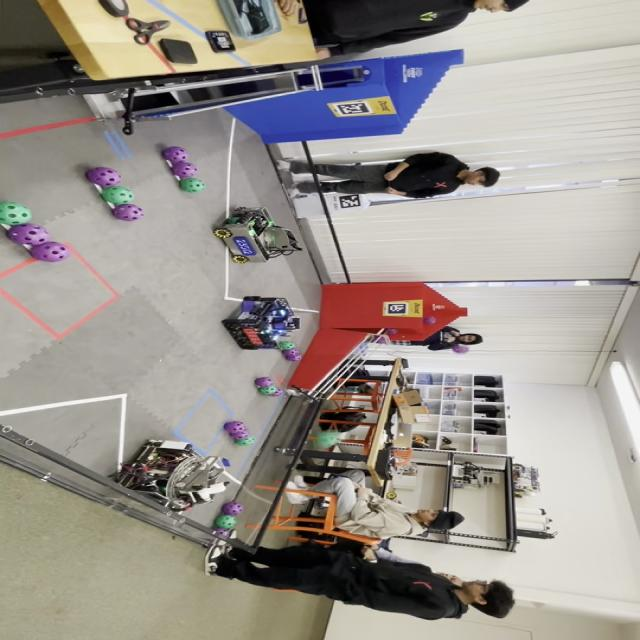artifact_green: (0, 202, 31, 225), (101, 186, 133, 205), (316, 432, 340, 448), (179, 178, 205, 192), (215, 515, 237, 529), (234, 436, 255, 445), (258, 386, 278, 395), (279, 341, 296, 350), (386, 492, 398, 499)
artifact_purple: (6, 224, 49, 245), (30, 242, 69, 261), (86, 167, 122, 187), (112, 204, 144, 221), (162, 146, 188, 163), (171, 162, 197, 178), (221, 502, 244, 515), (227, 428, 250, 439), (223, 421, 246, 431), (254, 377, 274, 387), (281, 348, 301, 358), (258, 386, 277, 395), (452, 343, 469, 353), (213, 528, 232, 536), (286, 353, 302, 361), (270, 388, 284, 397), (272, 321, 286, 329), (424, 316, 436, 324), (374, 336, 386, 343), (386, 328, 398, 335), (374, 336, 385, 343)
